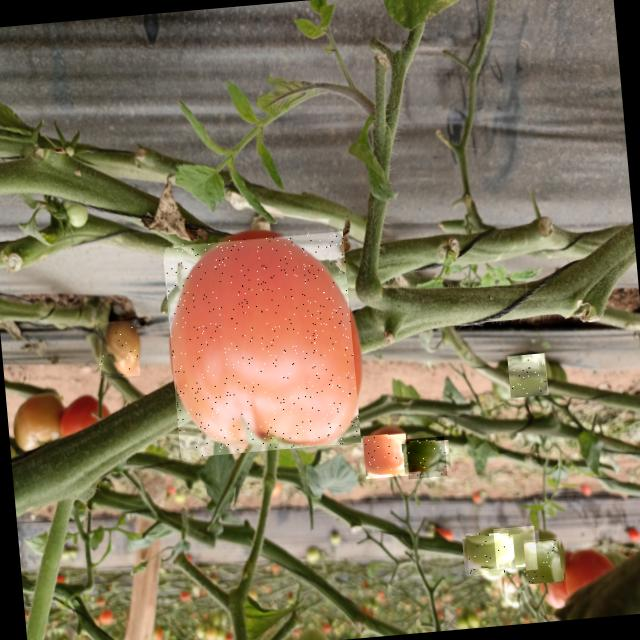Ripe Tomato: (162, 228, 361, 457), (362, 432, 409, 479)
Unripe Tomato: (95, 319, 140, 378), (465, 529, 512, 576), (522, 534, 564, 584), (506, 352, 548, 398), (493, 526, 537, 568), (405, 436, 447, 479)
